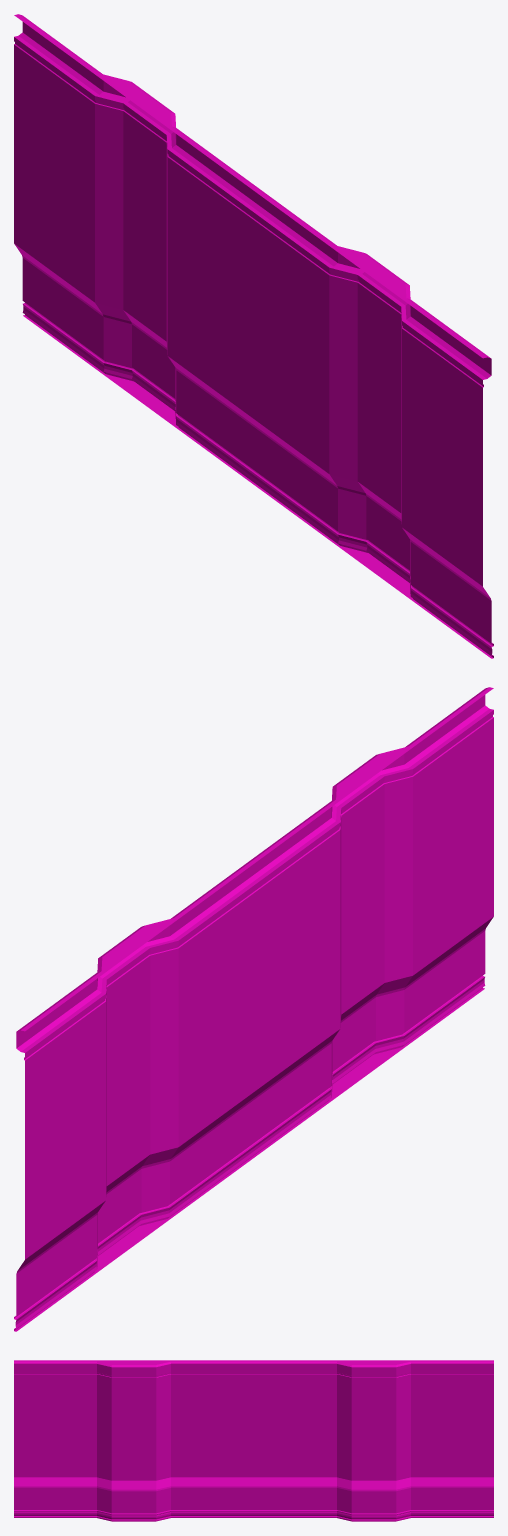
File: TempA_LongWall_02_Low.fbx
3 views of the same model, one above another, from view 1: azimuth 30°, elevation 25°; view 2: azimuth 150°, elevation 25°; view 3: azimuth 270°, elevation 25° (orthographic). The views are drawn at different scales.
Visible parts, largest first — view 1: TempA_LongWall_02_Low; view 2: TempA_LongWall_02_Low; view 3: TempA_LongWall_02_Low.
Boxes of the visible parts, <box> form: TempA_LongWall_02_Low: <box>14,14,493,658</box>; TempA_LongWall_02_Low: <box>14,687,493,1331</box>; TempA_LongWall_02_Low: <box>14,1360,493,1521</box>.
Bounding box in the file's own units: 0.3674 × 4.27 × 12.
